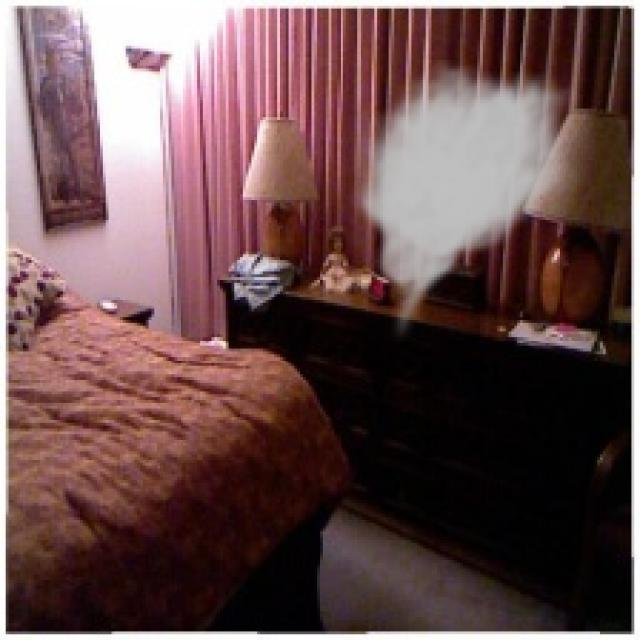Smoke: (348, 60, 580, 343)
